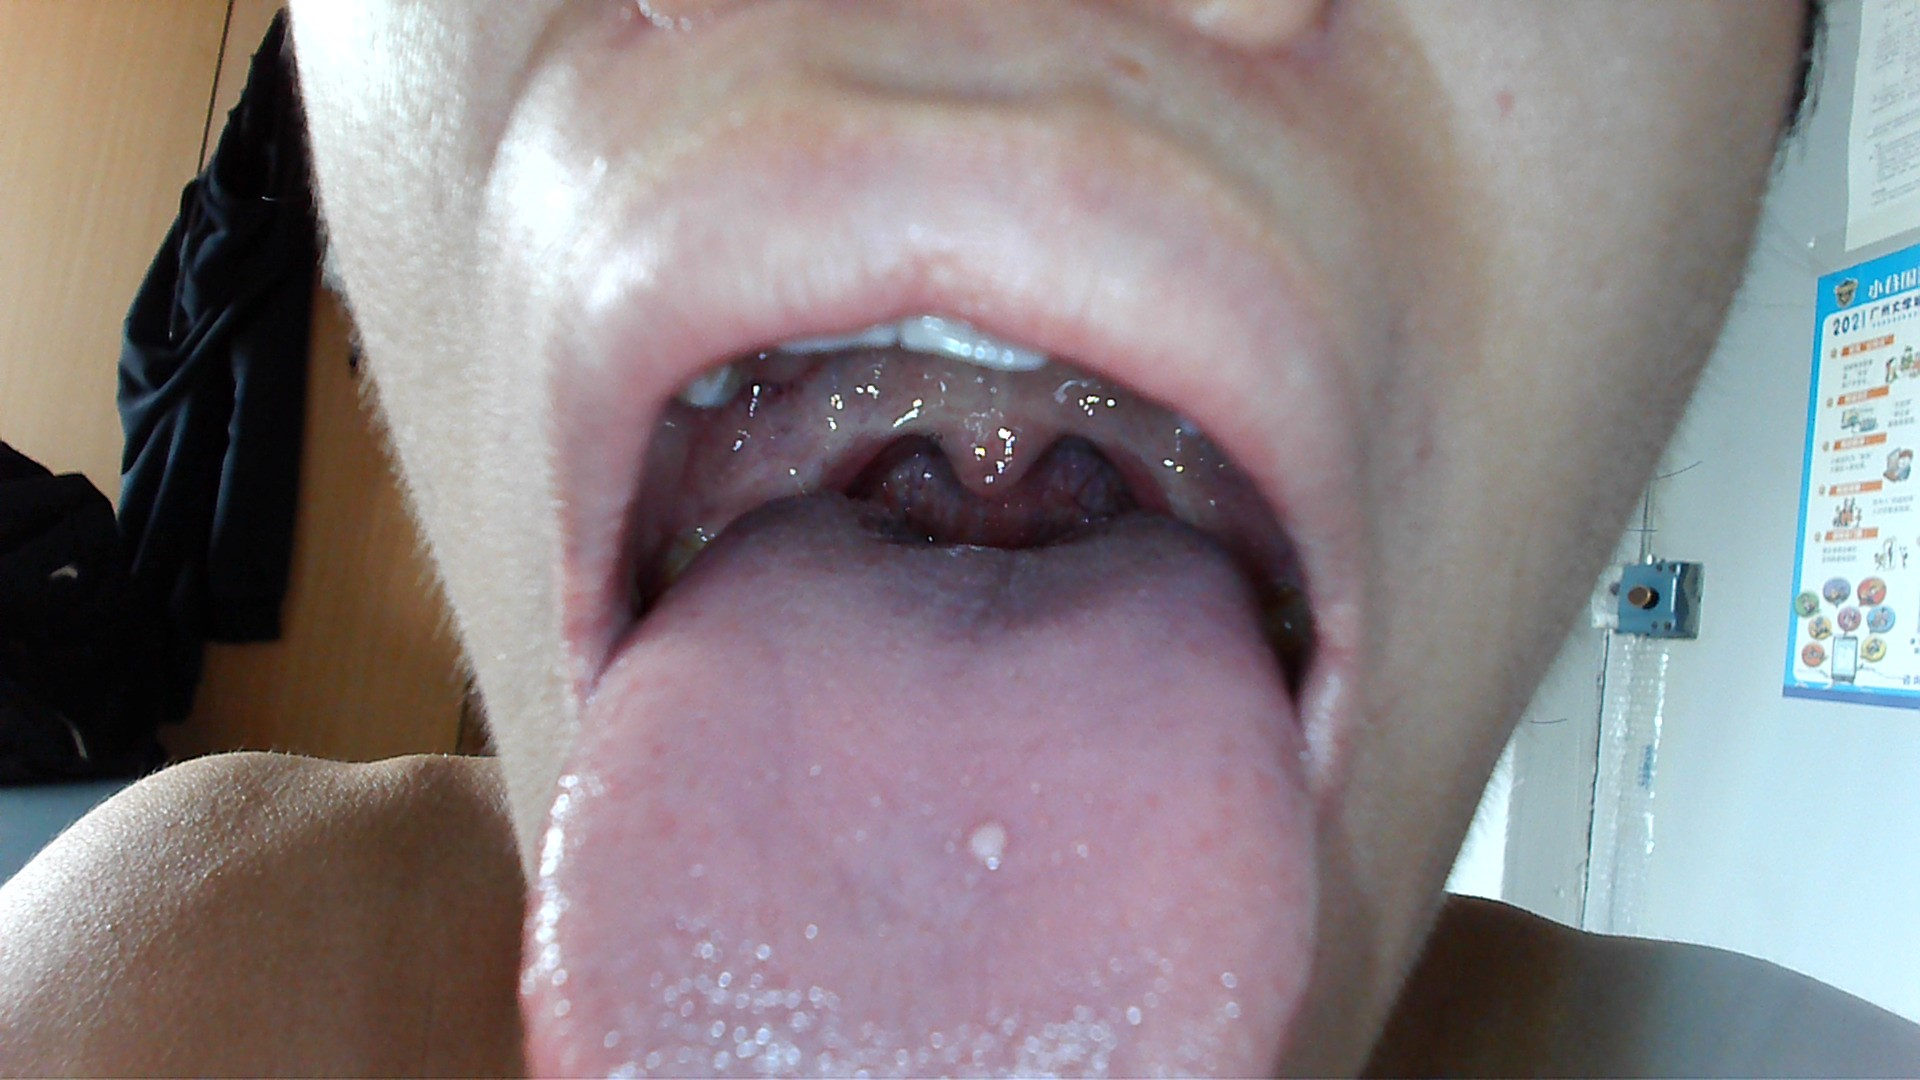throat: (758, 404, 874, 492), (1118, 407, 1182, 516)
